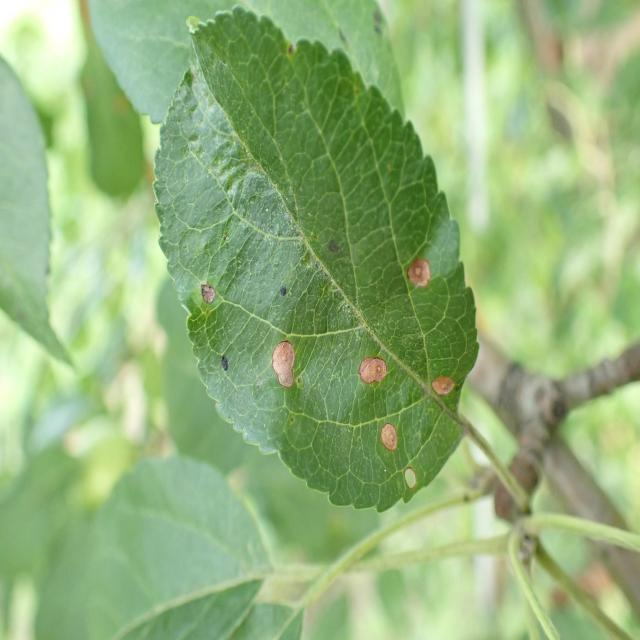frog-eye-leaf-spot: (152, 4, 480, 516)
